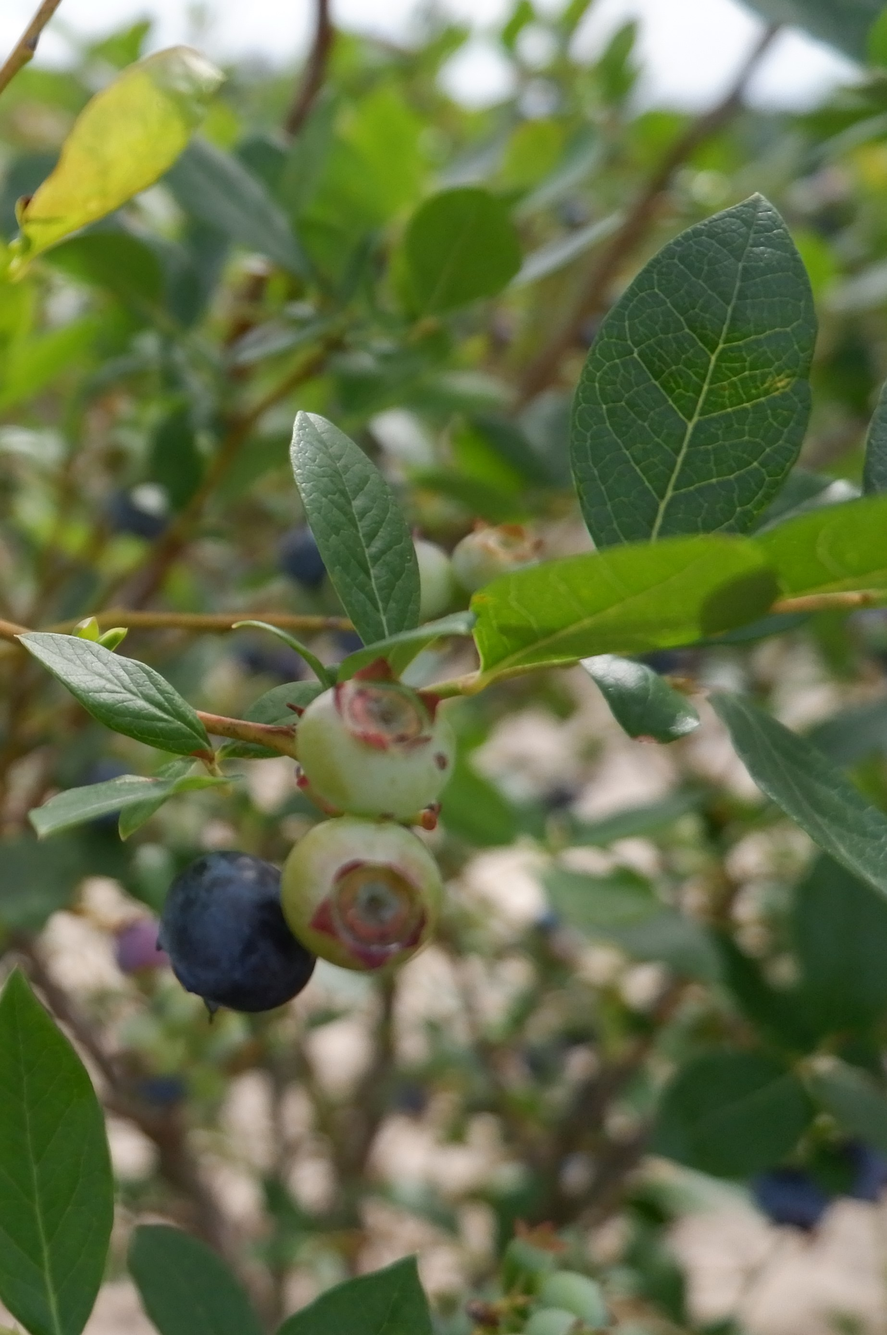Immature: (285, 823, 435, 967), (298, 680, 449, 820)
Mature: (158, 856, 313, 1011)
